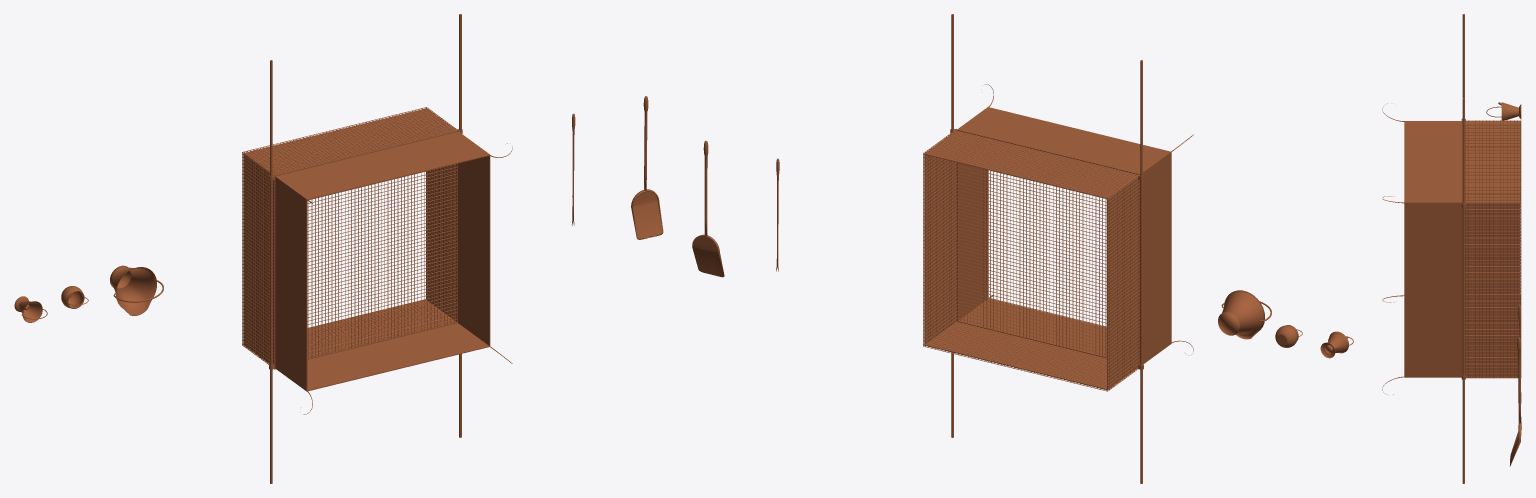
The model's file is altar-burnt-offering.glb.
The picture shows the model from 3 angles, left to right: view 1: azimuth 30°, elevation 25°; view 2: azimuth 150°, elevation 25°; view 3: azimuth 270°, elevation 25°; orthographic projection. The views are drawn at different scales.
Visible parts, largest first — view 1: Grate2.002, FirePan.001, CoalShovel.002; view 2: Grate2.002, FirePan.001, CoalShovel.002; view 3: Grate2.002, CoalShovel.002, SprinklingBowl.001.
Part boxes in pixels (x1=…): Grate2.002: x1=242, y1=14, x2=512, y2=483; FirePan.001: x1=110, y1=265, x2=163, y2=315; CoalShovel.002: x1=631, y1=96, x2=663, y2=239; Grate2.002: x1=923, y1=14, x2=1193, y2=483; FirePan.001: x1=1218, y1=290, x2=1271, y2=339; CoalShovel.002: x1=692, y1=141, x2=724, y2=277; Grate2.002: x1=1382, y1=14, x2=1521, y2=483; CoalShovel.002: x1=1509, y1=337, x2=1521, y2=466; SprinklingBowl.001: x1=1486, y1=102, x2=1521, y2=120.
Bounding box in the file's own units: 17.64 × 11 × 3.61.
